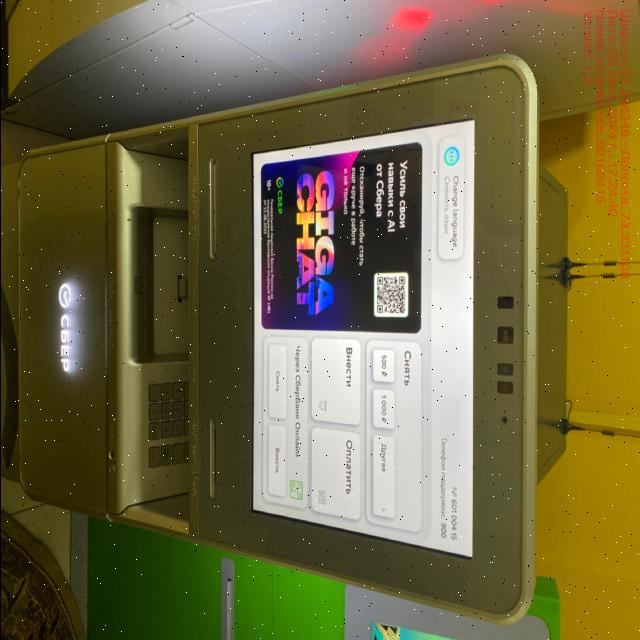bank: (0, 55, 570, 624)
